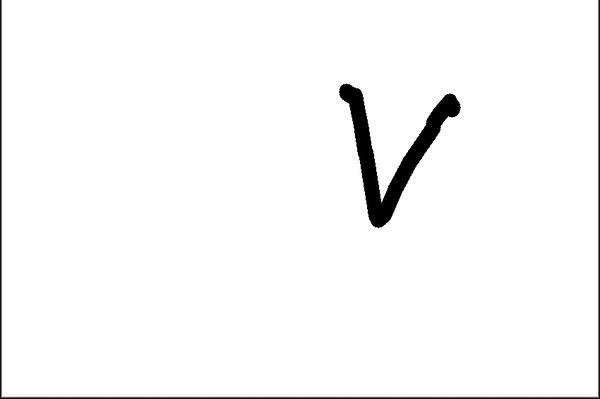V: (332, 67, 476, 241)
